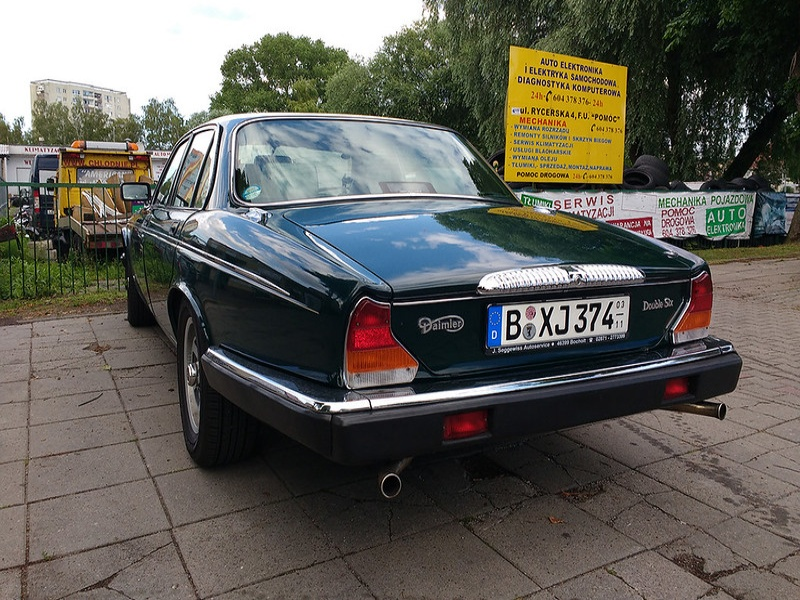licenceplate: (485, 293, 633, 345)
